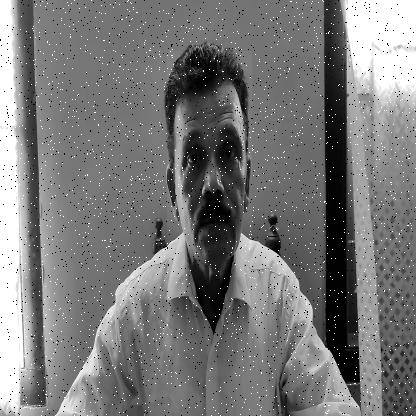Normal: (167, 51, 252, 277)
